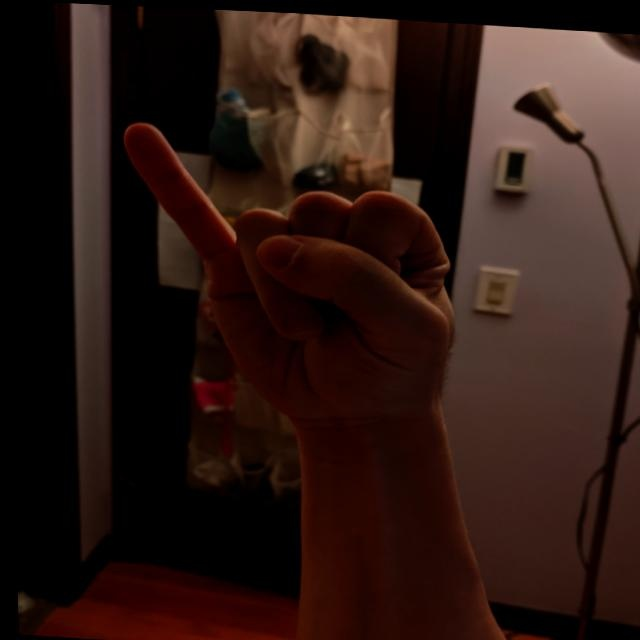I: (108, 112, 469, 435)
